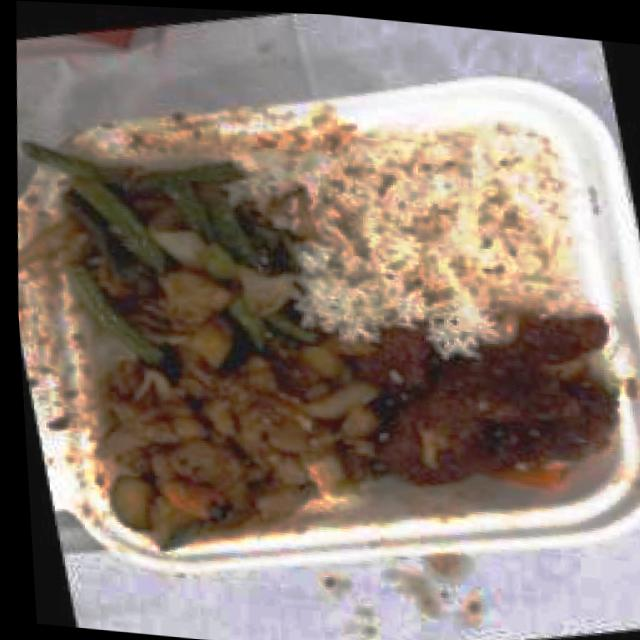Beijing Beef: (362, 319, 614, 489)
Kung Pao Chicken: (82, 331, 377, 506)
String Bean Chicken Breast: (25, 140, 321, 353)
rice: (313, 114, 594, 333)
